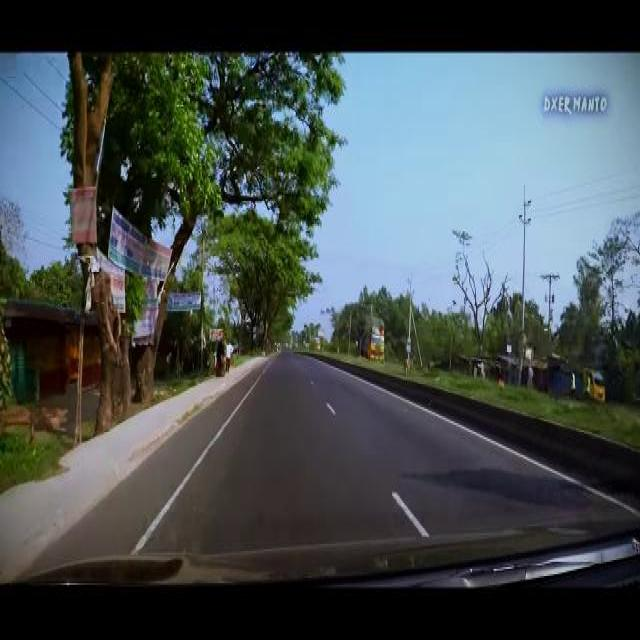truck: (580, 362, 605, 403), (359, 327, 384, 363)
